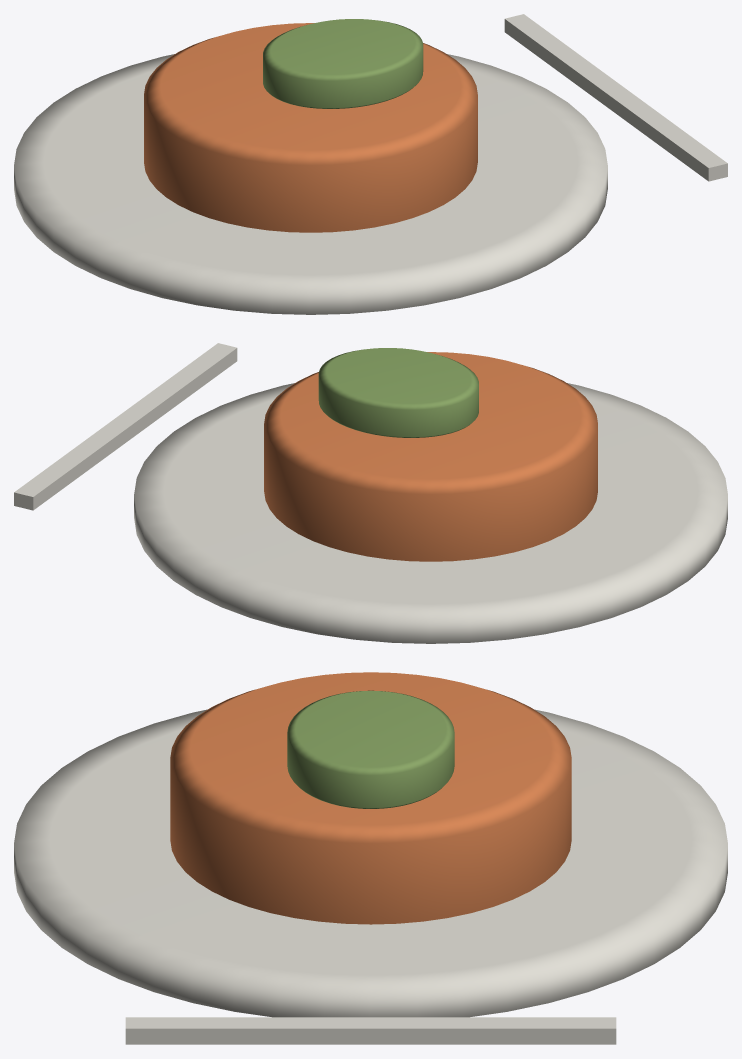
File: restaurant.glb
3 views of the same model, one above another, from view 1: azimuth 30°, elevation 25°; view 2: azimuth 150°, elevation 25°; view 3: azimuth 270°, elevation 25° (orthographic). The views are drawn at different scales.
Parts seen in each view (by area): view 1: plate, dish, garnish, fork; view 2: plate, dish, garnish, fork; view 3: plate, dish, garnish, fork.
Part boxes in pixels (box(x1,y1,x2,y2)): plate: box(14, 54, 607, 314); dish: box(144, 23, 477, 232); garnish: box(263, 19, 423, 108); fork: box(504, 14, 727, 181); plate: box(134, 383, 727, 643); dish: box(264, 352, 597, 561); garnish: box(318, 348, 478, 437); fork: box(14, 343, 237, 510); plate: box(14, 709, 727, 1017); dish: box(170, 672, 571, 924); garnish: box(287, 690, 454, 808); fork: box(125, 1017, 616, 1044).
Bounding box in the file's own units: 3.56 × 0.82 × 3.2.
